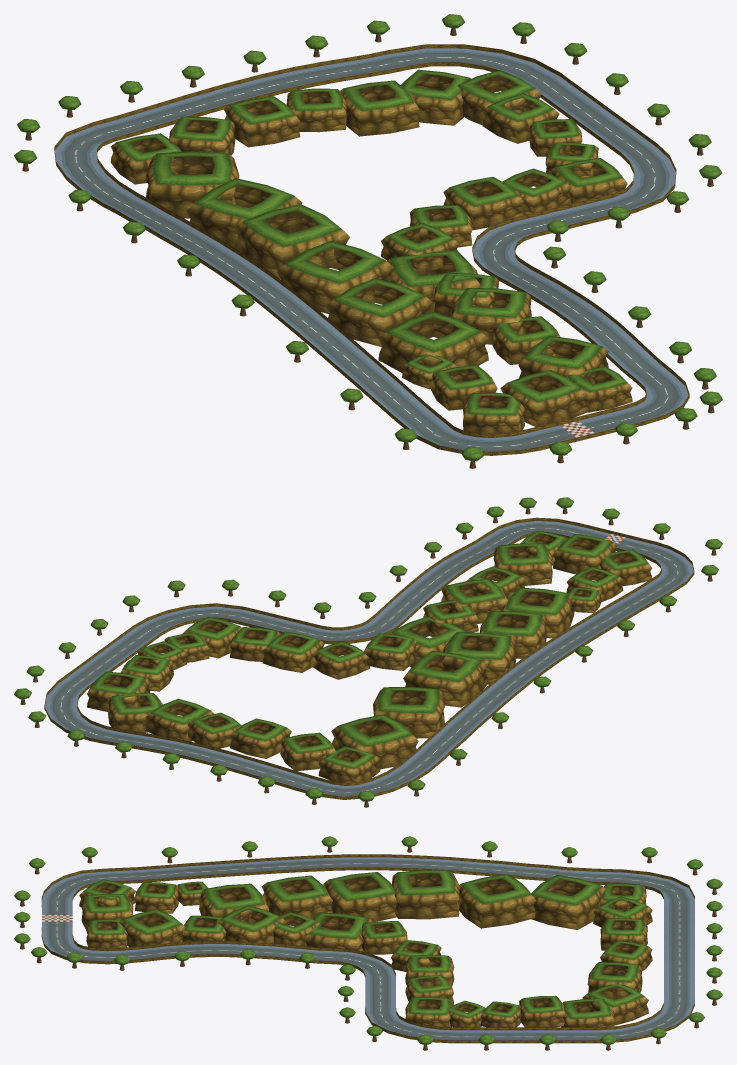
The model's file is track01_15.FBX.
The picture shows the model from 3 angles, top to bottom: view 1: azimuth 30°, elevation 25°; view 2: azimuth 150°, elevation 25°; view 3: azimuth 270°, elevation 25°; orthographic projection. The views are drawn at different scales.
Visible parts, largest first — view 1: cliff, road, fence; view 2: cliff, road, fence; view 3: cliff, road, fence.
Part boxes in pixels (x1,y1,x2,y2): cliff: (110,69,632,433); road: (55,48,688,451); fence: (54,44,689,455); cliff: (87,531,651,782); road: (45,521,693,796); fence: (44,517,694,799); cliff: (79,870,652,1027); road: (41,857,694,1040); fence: (41,854,694,1043).
Bounding box in the file's own units: 16100 × 1514 × 24807.
